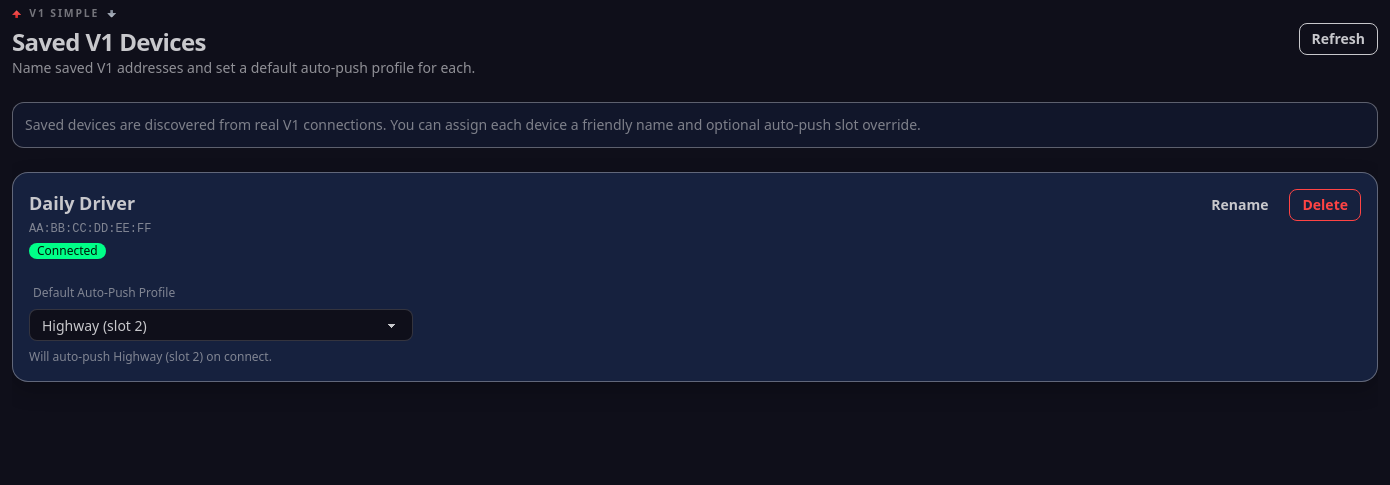
Test: devices route page › keeps the rename form open when saving a device name fails
This screenshot has width=1390, height=485.
Expected: the heading "Daily Driver" is shown, [29,189,151,217]
Click the button "Rename" at (1240,205), box [1198,189,1282,221]
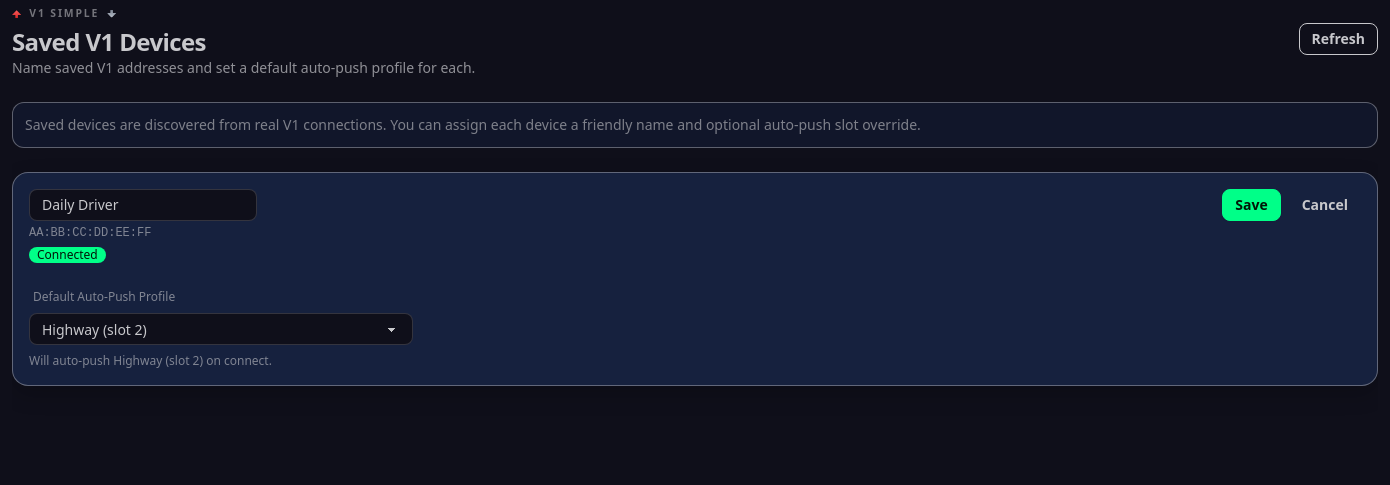
Replace the text in the field showing "Daily Driver" with "Track Car" at (143,205), box [29,189,257,221]
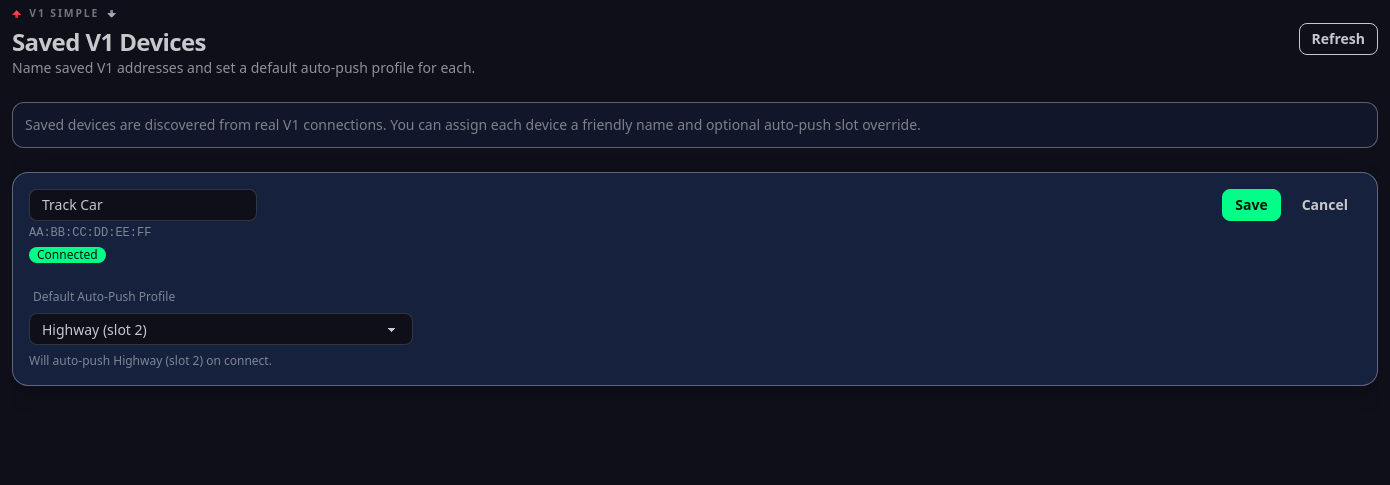
Click the button "Save" at (1252,205), box [1222,189,1281,221]
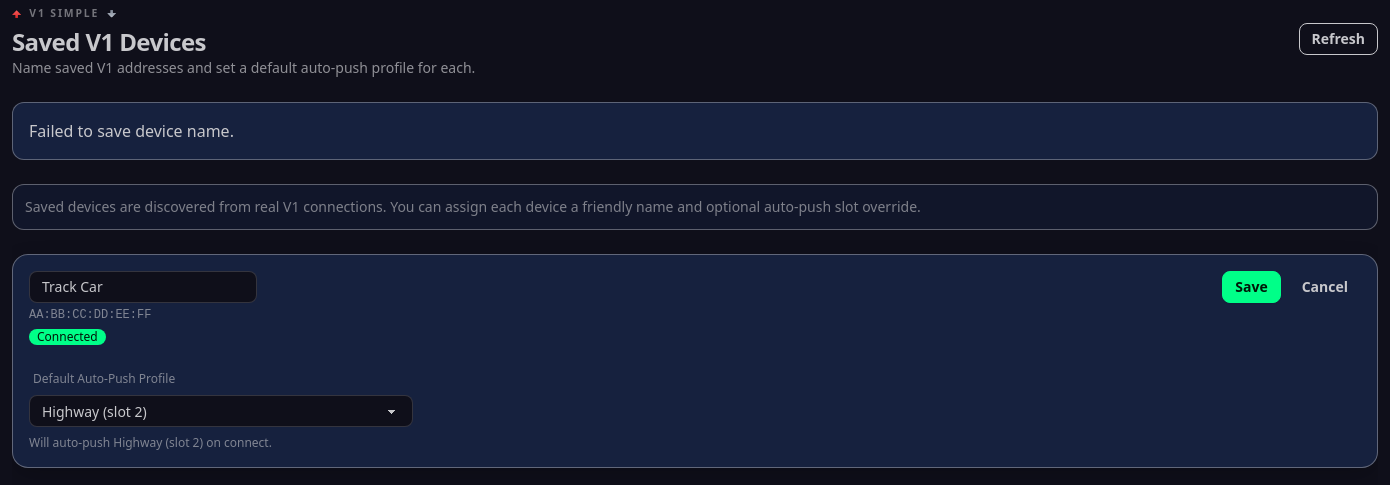
Result: the button "Save" is shown at [1222,271,1281,303]
Result: the text "Failed to save device name." is shown at [29,119,234,143]
